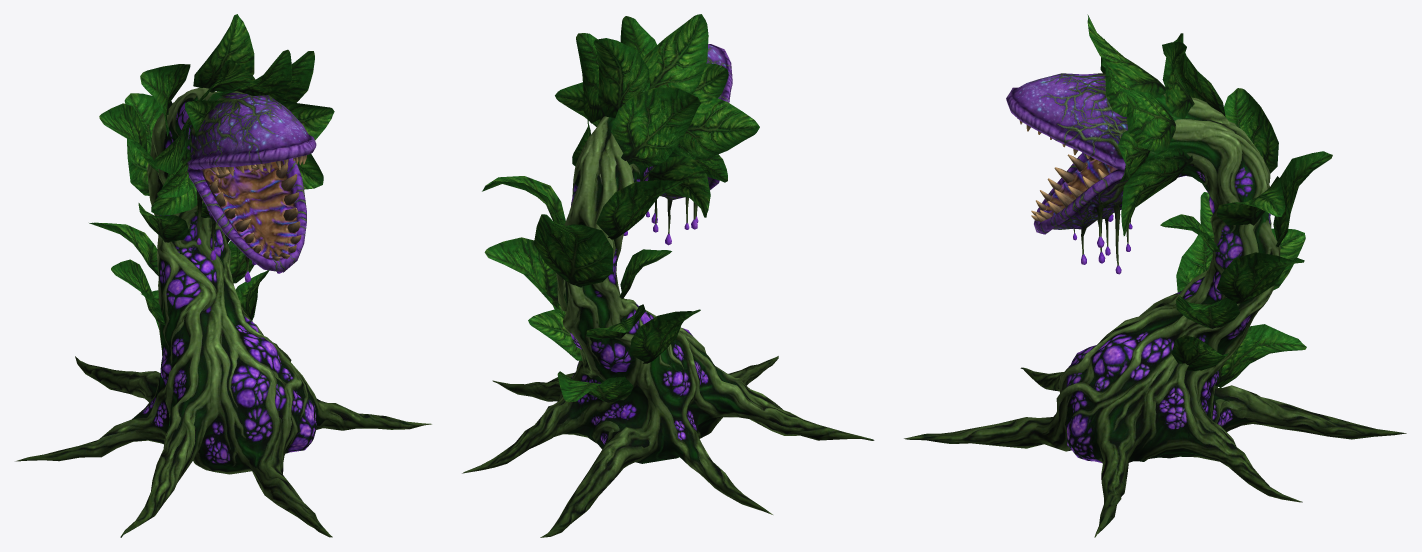
File: monster_plant.obj
3 views of the same model, side by side, from view 1: azimuth 30°, elevation 25°; view 2: azimuth 150°, elevation 25°; view 3: azimuth 270°, elevation 25° (orthographic).
Parts seen in each view (by area): view 1: Plant_001; view 2: Plant_001; view 3: Plant_001.
Boxes of the visible parts, bbox=[...] form: Plant_001: bbox=[15, 14, 431, 537]; Plant_001: bbox=[462, 14, 874, 537]; Plant_001: bbox=[904, 14, 1406, 537].
Size of the model in its own units: 143 by 164 by 175.
